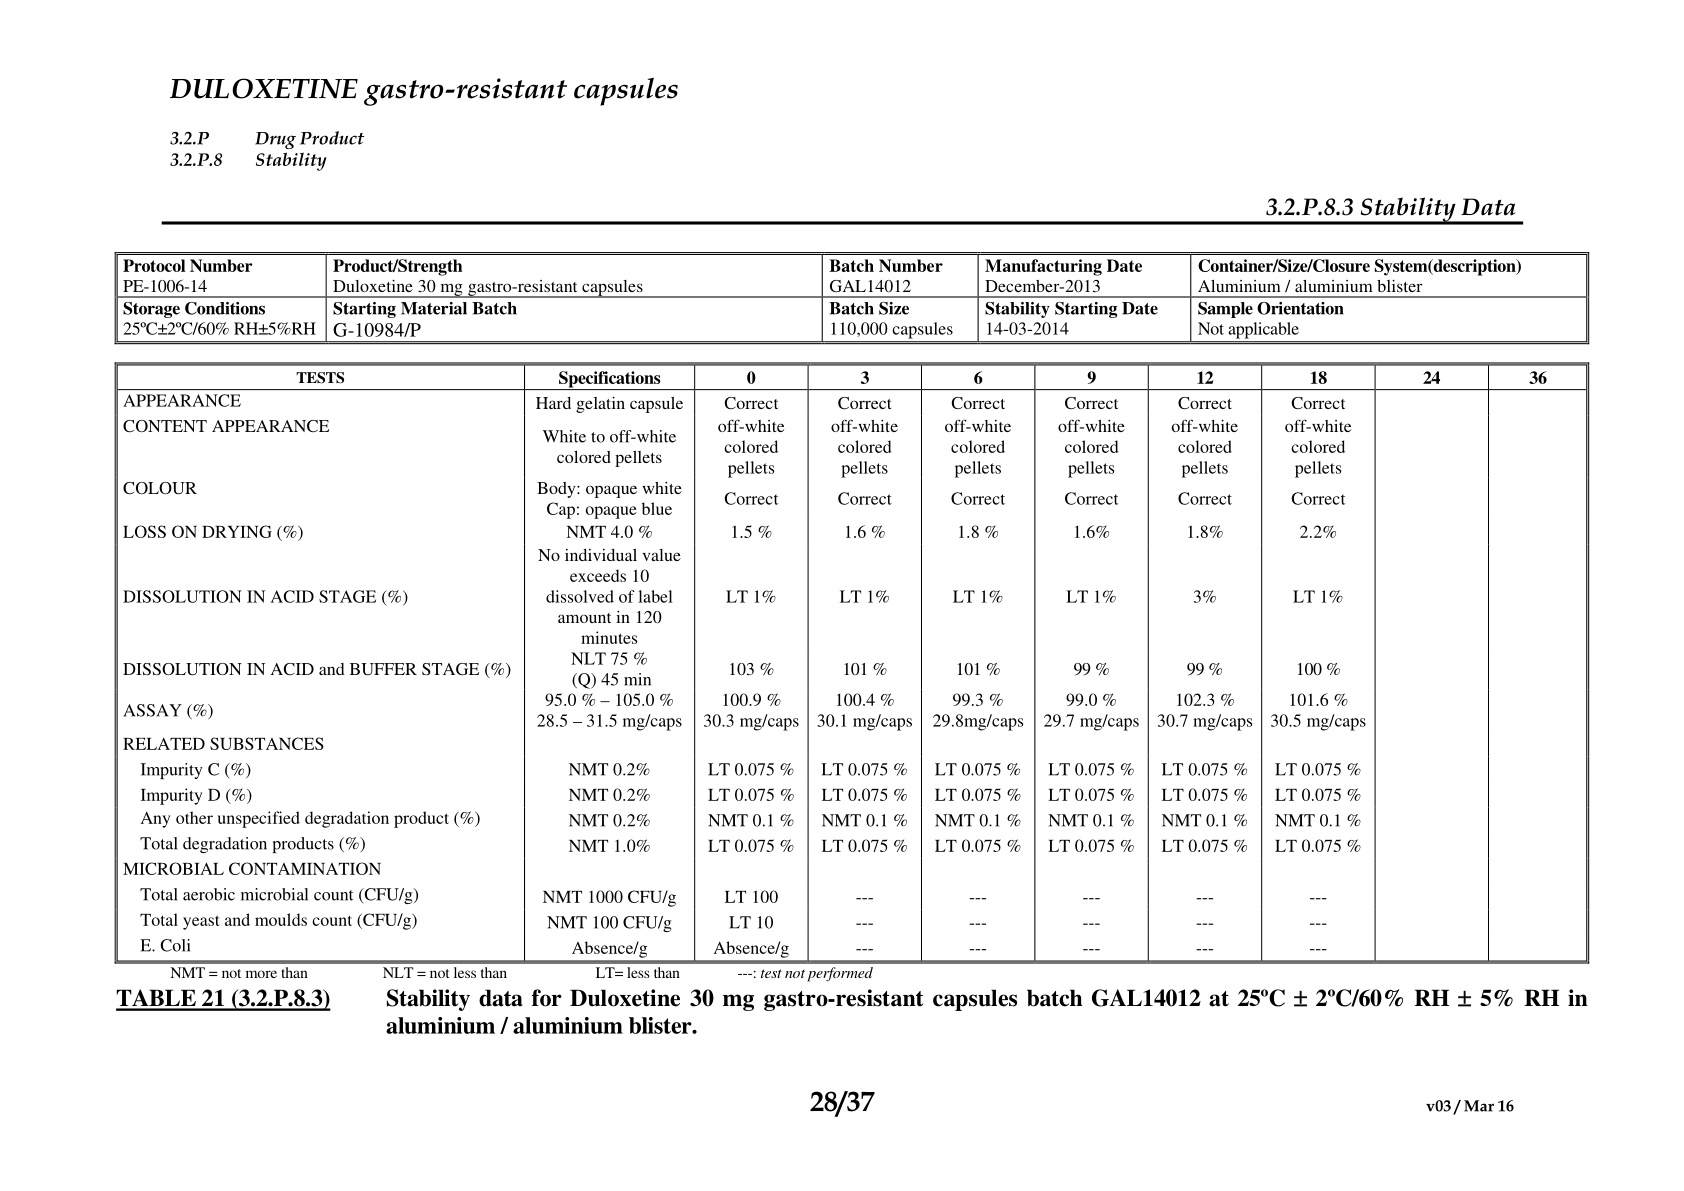full_lined: (113, 251, 1590, 344)
partial_lined: (113, 361, 1590, 964)
